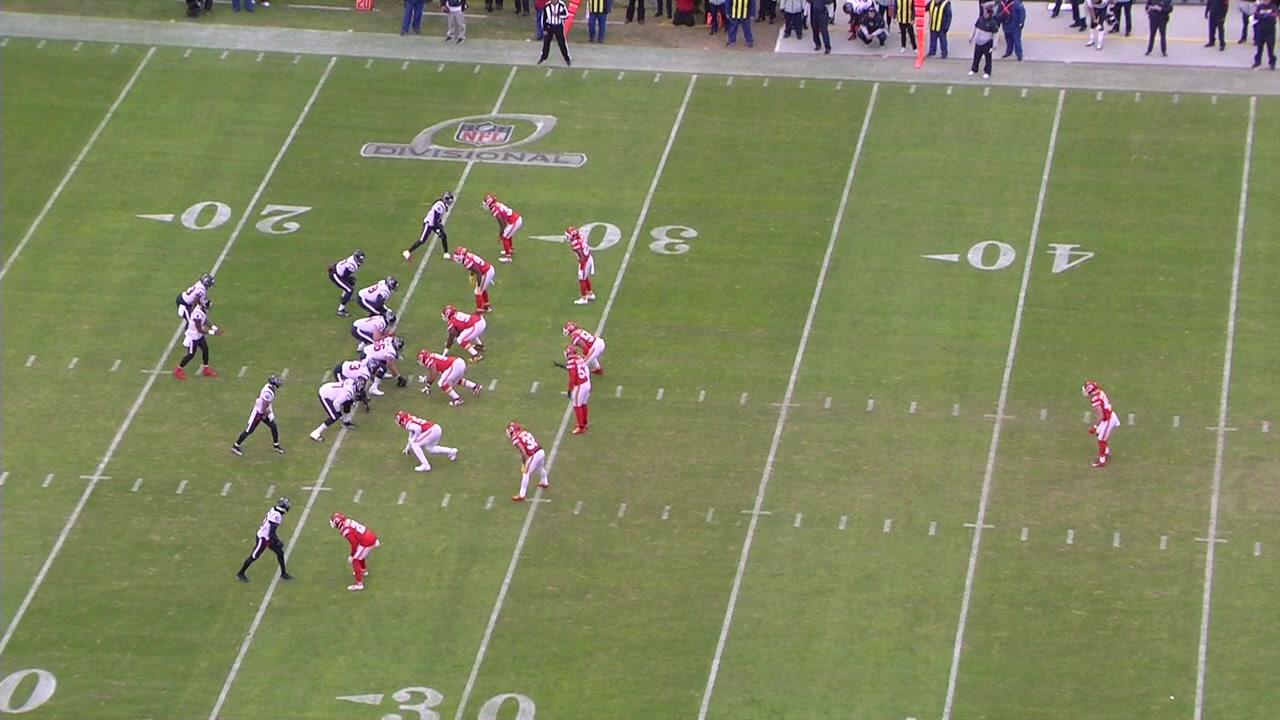player: (235, 494, 294, 587), (228, 371, 287, 457), (326, 510, 382, 593), (172, 296, 226, 380), (400, 187, 458, 264), (392, 409, 460, 474), (307, 374, 368, 446), (414, 349, 483, 408), (502, 420, 550, 502), (1079, 377, 1118, 471), (553, 345, 593, 436), (358, 332, 411, 397), (331, 351, 383, 416), (480, 189, 524, 265), (175, 270, 217, 349), (452, 244, 497, 317), (324, 246, 368, 318), (438, 304, 488, 366), (563, 224, 598, 307), (561, 319, 606, 377), (350, 309, 398, 356), (355, 274, 403, 316)
ref: (531, 0, 576, 68)
